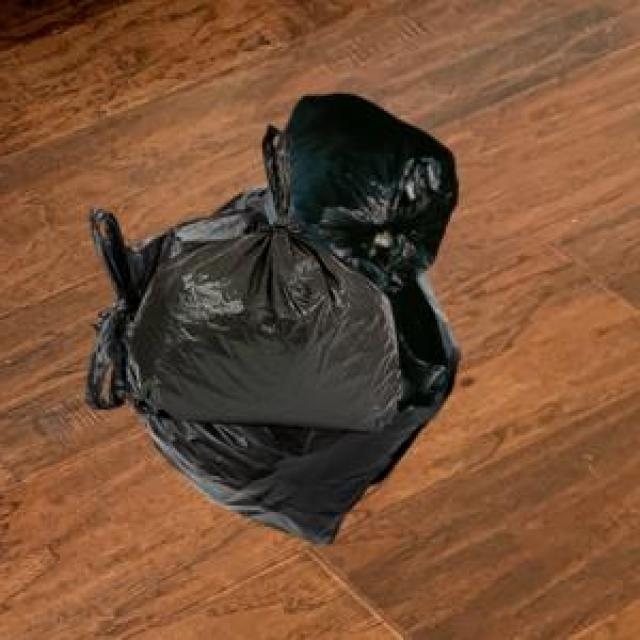Trashbag: (117, 206, 401, 446)
